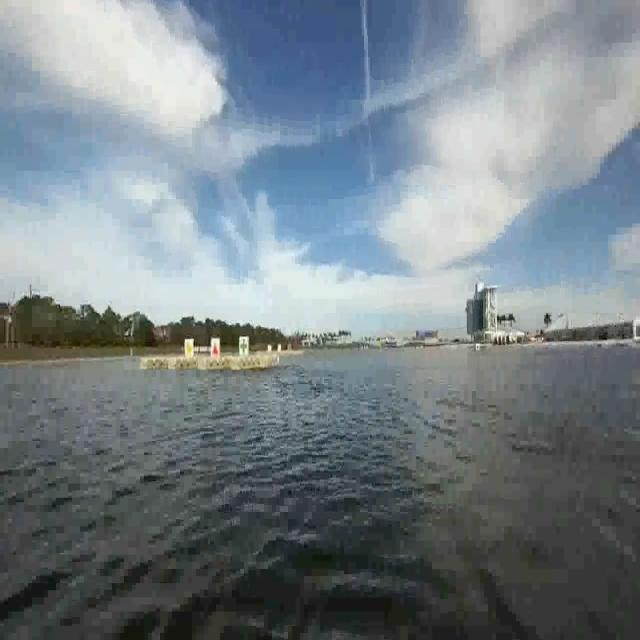blue-cross: (240, 335, 250, 359)
red-dot: (210, 338, 219, 362)
yellow-duck: (185, 341, 193, 352)
